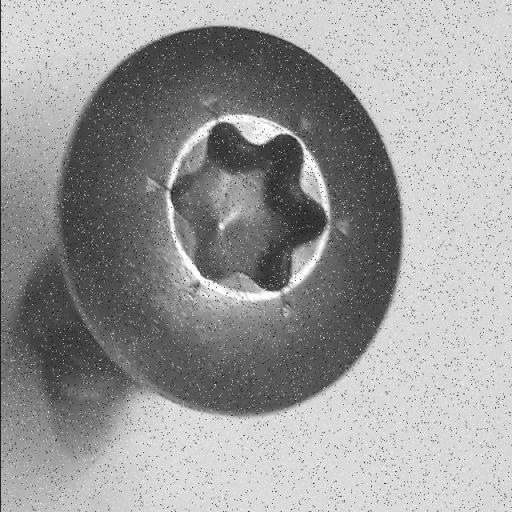Torx: (55, 24, 409, 420)
